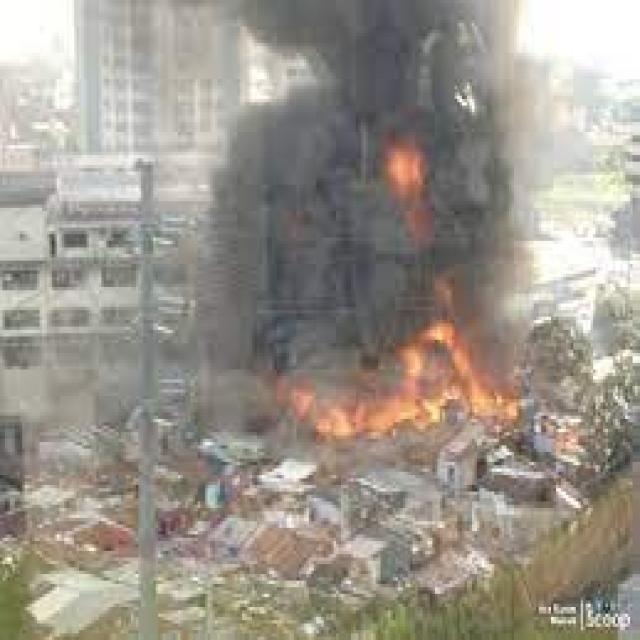Fire: (287, 340, 487, 429)
Smoke: (230, 0, 500, 343)
